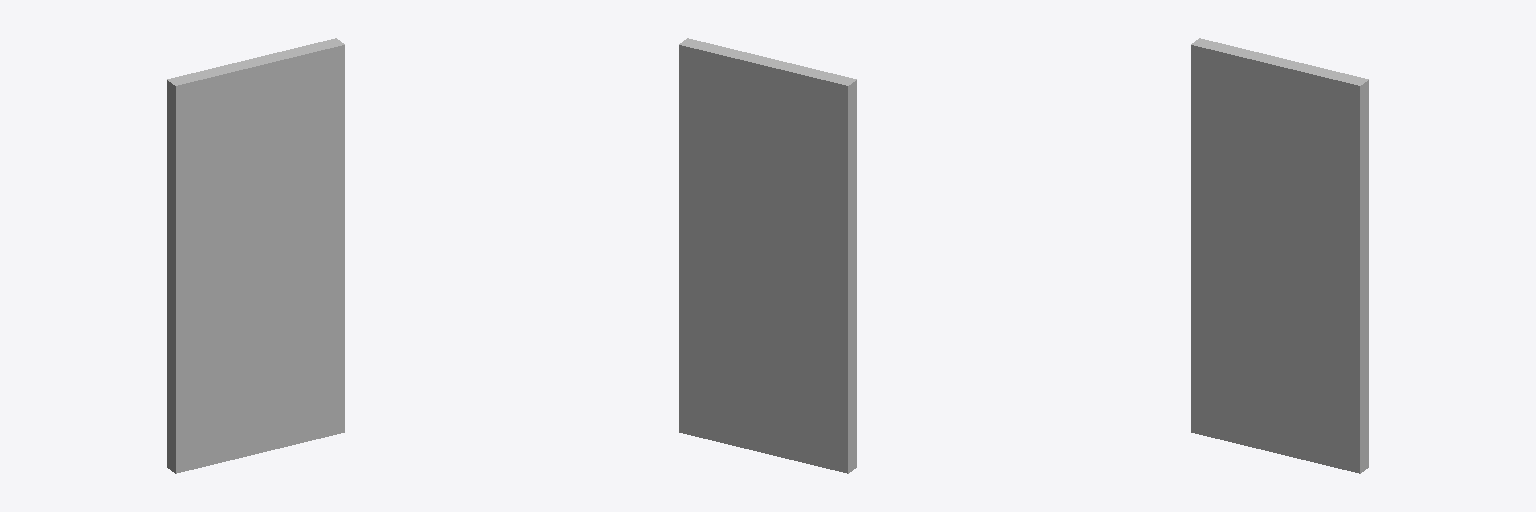
The model's file is doubledoor.obj.
The picture shows the model from 3 angles: view 1: azimuth 30°, elevation 25°; view 2: azimuth 150°, elevation 25°; view 3: azimuth 330°, elevation 25°; orthographic projection.
Parts seen in each view (by area): view 1: object 1; view 2: object 1; view 3: object 1.
Part boxes in pixels (x1,y1,x2,y2): object 1: (167,38,344,473); object 1: (679,38,856,473); object 1: (1191,38,1368,473).
Bounding box in the file's own units: 1.1 × 2.4 × 0.1.